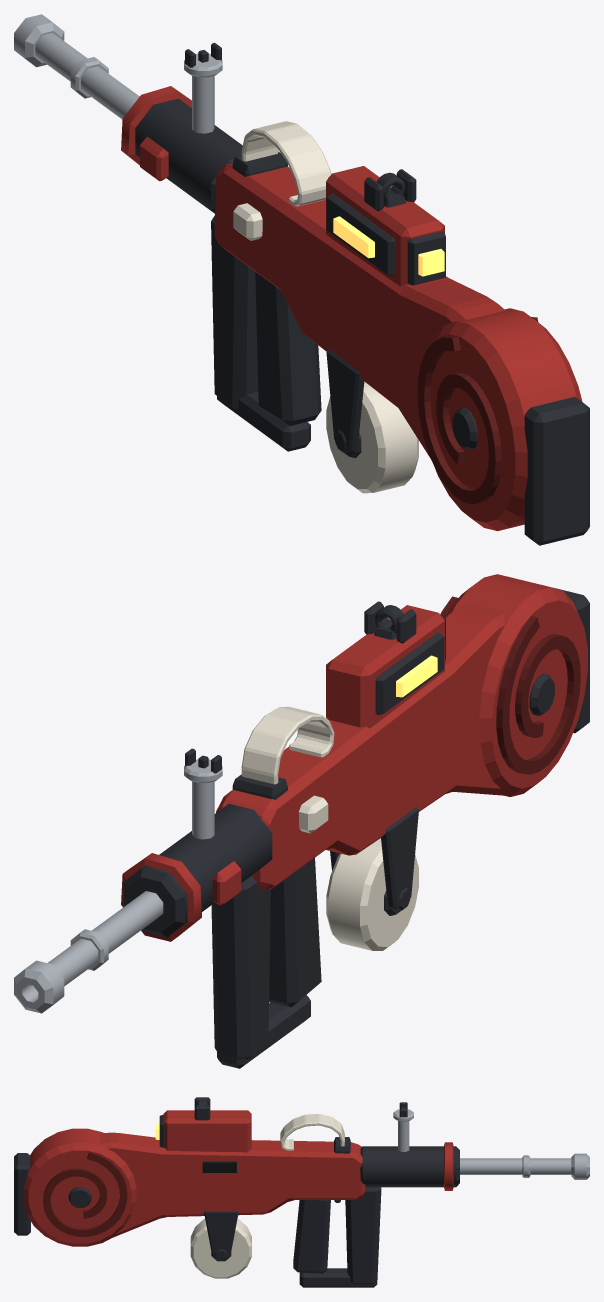
Rendered from w_burst@burst_ticket.glb.
3 renders of one model, top to bottom at view 1: azimuth 30°, elevation 25°; view 2: azimuth 150°, elevation 25°; view 3: azimuth 270°, elevation 25°, orthographic. The views are drawn at different scales.
Visible parts, largest first — view 1: body_wzA, stock_wzB, loop_wzB, grip_wzB, body_wzN, mag_wzN, fore_wzB, barrel_wzB, sign_wzA, ticket_wzN, sign_wzB, mag_wzB (+7 smaller); view 2: body_wzA, loop_wzB, fore_wzB, body_wzN, mag_wzN, grip_wzB, sign_wzA, barrel_wzB, ticket_wzN, mag_wzB, fore_wzN, sign_wzB (+7 smaller); view 3: body_wzA, loop_wzB, fore_wzB, sign_wzA, body_wzN, grip_wzB, barrel_wzB, mag_wzN, mag_wzB, stock_wzB, ticket_wzN, sight_wzN.001 (+4 smaller).
Boxes of the visible parts, x1,y1,x2,y2 form: body_wzA: (214, 163, 582, 531); stock_wzB: (524, 396, 589, 545); loop_wzB: (211, 215, 310, 451); grip_wzB: (255, 272, 321, 425); body_wzN: (417, 317, 538, 504); mag_wzN: (326, 381, 418, 493); fore_wzB: (135, 98, 242, 213); barrel_wzB: (14, 14, 139, 119); sign_wzA: (326, 166, 444, 286); ticket_wzN: (241, 121, 331, 206); sign_wzB: (326, 193, 445, 285); mag_wzB: (326, 349, 364, 458); body_wzA: (216, 574, 587, 890); loop_wzB: (211, 876, 310, 1068); fore_wzB: (124, 803, 272, 937); body_wzN: (440, 596, 580, 774); mag_wzN: (326, 838, 418, 950); grip_wzB: (269, 858, 321, 1007); sign_wzA: (326, 605, 444, 728); barrel_wzB: (14, 891, 163, 1013); ticket_wzN: (241, 706, 334, 784); mag_wzB: (330, 807, 418, 915); fore_wzN: (121, 853, 241, 941); sign_wzB: (375, 617, 445, 714); body_wzA: (23, 1128, 365, 1246); loop_wzB: (299, 1187, 381, 1287); fore_wzB: (360, 1146, 459, 1187); sign_wzA: (163, 1110, 251, 1152); body_wzN: (43, 1151, 127, 1236); grip_wzB: (293, 1200, 340, 1273); barrel_wzB: (460, 1153, 589, 1179); mag_wzN: (190, 1218, 251, 1278); mag_wzB: (204, 1211, 238, 1261); stock_wzB: (14, 1153, 30, 1235); ticket_wzN: (280, 1114, 344, 1150); sight_wzN.001: (393, 1109, 413, 1151).
Bounding box in the file's own units: 0.108 × 0.415 × 1.18.
